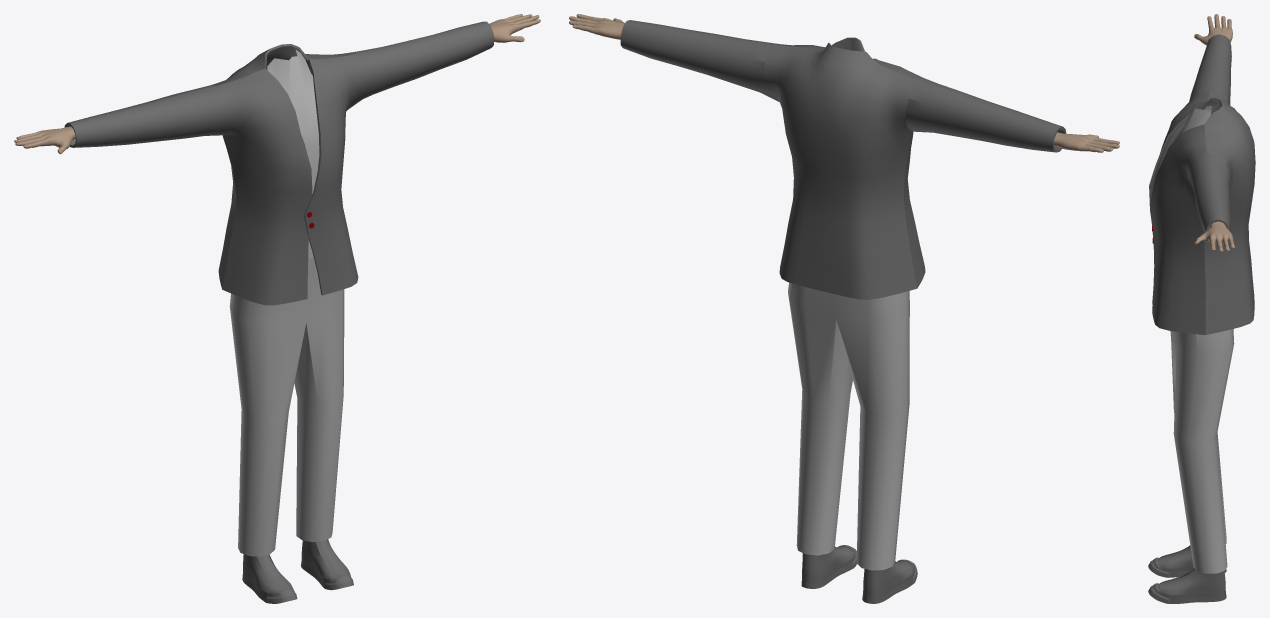
File: Floyd.fbx
The picture shows the model from 3 angles, left to right: view 1: azimuth 30°, elevation 25°; view 2: azimuth 150°, elevation 25°; view 3: azimuth 270°, elevation 25°; orthographic projection. The views are drawn at different scales.
Parts seen in each view (by area): view 1: polySurface89; view 2: polySurface89; view 3: polySurface89.
Part boxes in pixels (x1=…): polySurface89: x1=14, y1=14, x2=540, y2=603; polySurface89: x1=569, y1=14, x2=1119, y2=603; polySurface89: x1=1148, y1=14, x2=1255, y2=603.
Bounding box in the file's own units: 53.39 × 50.99 × 10.31.
